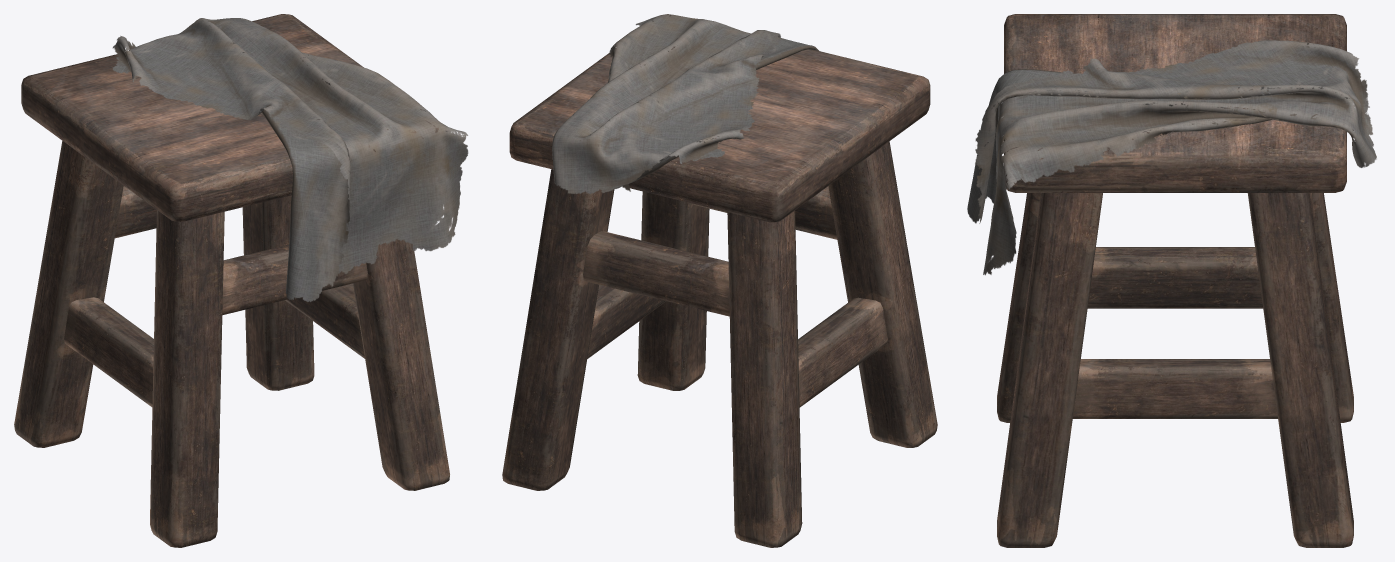
The model's file is old_wooden_chair.glb.
The picture shows the model from 3 angles, left to right: view 1: azimuth 30°, elevation 25°; view 2: azimuth 150°, elevation 25°; view 3: azimuth 270°, elevation 25°; orthographic projection. The views are drawn at different scales.
Parts seen in each view (by area): view 1: legs_low, cloth_low, top_low, planks1_low, planks2_low; view 2: legs_low, top_low, cloth_low, planks2_low, planks1_low; view 3: legs_low, cloth_low, top_low, planks1_low.
Part boxes in pixels (x1=…): legs_low: x1=14, y1=141, x2=449, y2=547; cloth_low: x1=112, y1=18, x2=468, y2=301; top_low: x1=21, y1=14, x2=438, y2=221; planks1_low: x1=64, y1=283, x2=364, y2=406; planks2_low: x1=115, y1=186, x2=367, y2=315; legs_low: x1=502, y1=141, x2=937, y2=547; top_low: x1=509, y1=15, x2=930, y2=222; cloth_low: x1=552, y1=14, x2=818, y2=193; planks2_low: x1=583, y1=186, x2=837, y2=316; planks1_low: x1=587, y1=285, x2=887, y2=407; legs_low: x1=997, y1=193, x2=1353, y2=547; cloth_low: x1=967, y1=40, x2=1376, y2=275; top_low: x1=1004, y1=14, x2=1346, y2=192; planks1_low: x1=1072, y1=247, x2=1277, y2=418.
Size of the model in its own units: 33.71 by 40.11 by 36.25.
2 materials, 2 textured.
